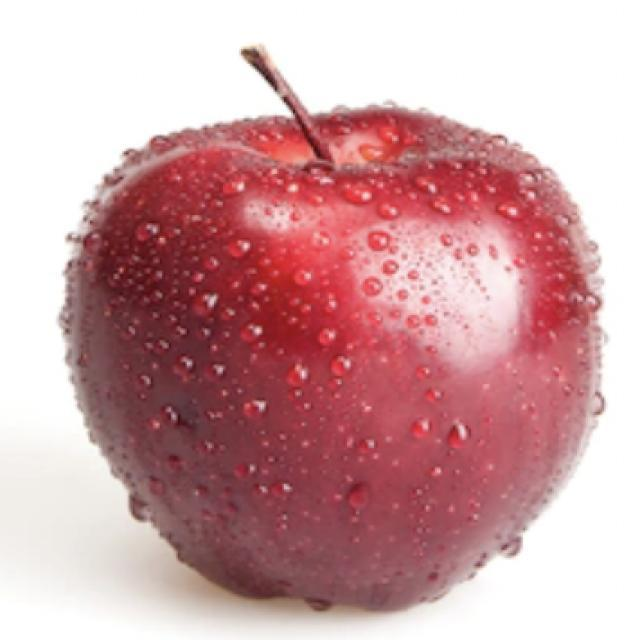Fresh Apple: (91, 118, 606, 590)
